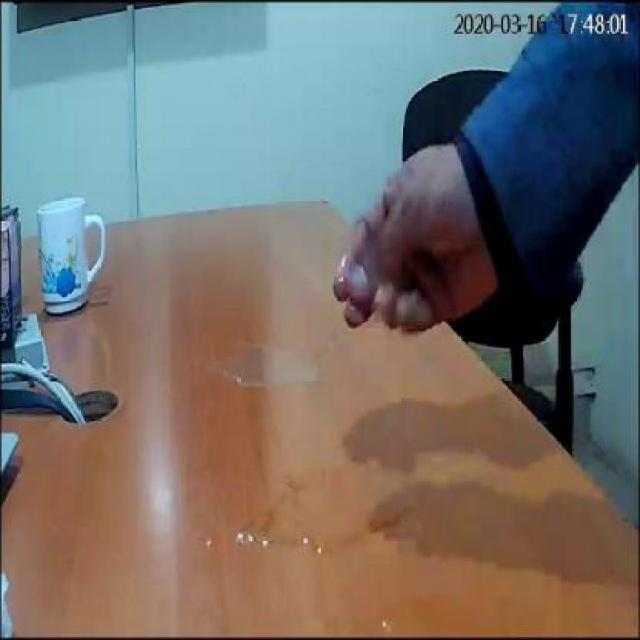spill: (239, 477, 407, 555), (200, 330, 328, 390)
